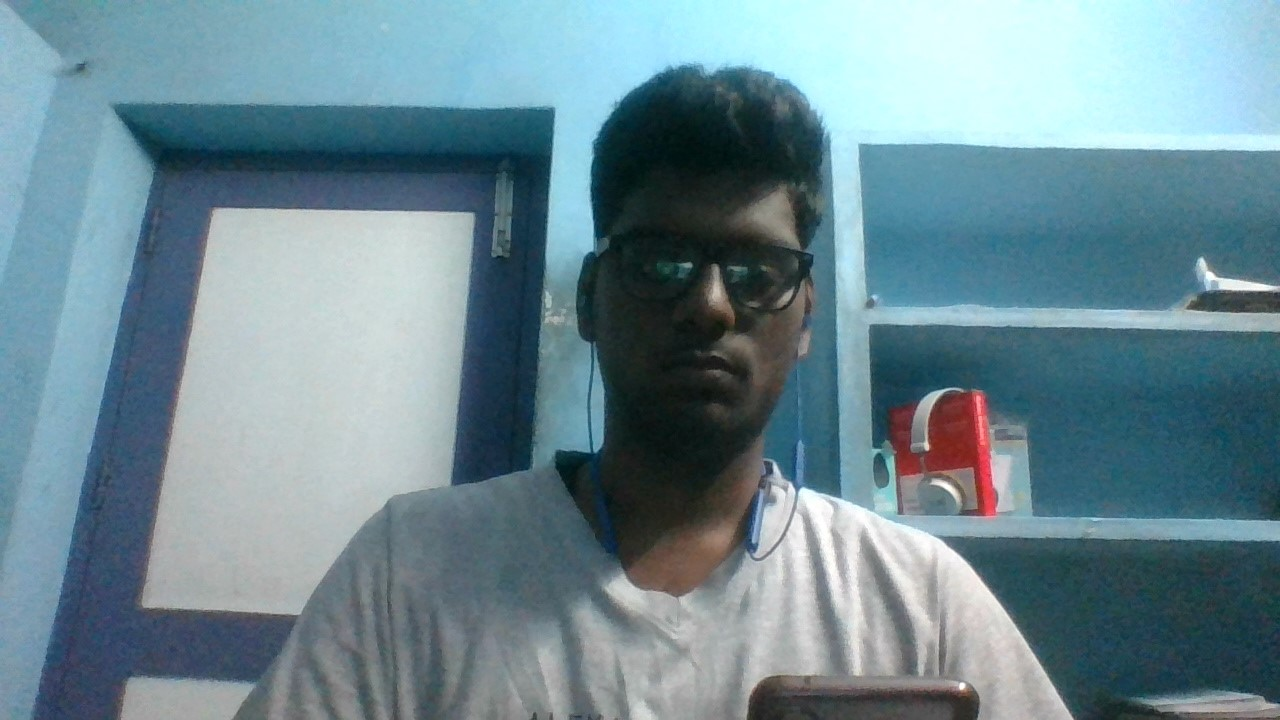mobile phone: (733, 662, 992, 718)
person: (257, 58, 1045, 720)
